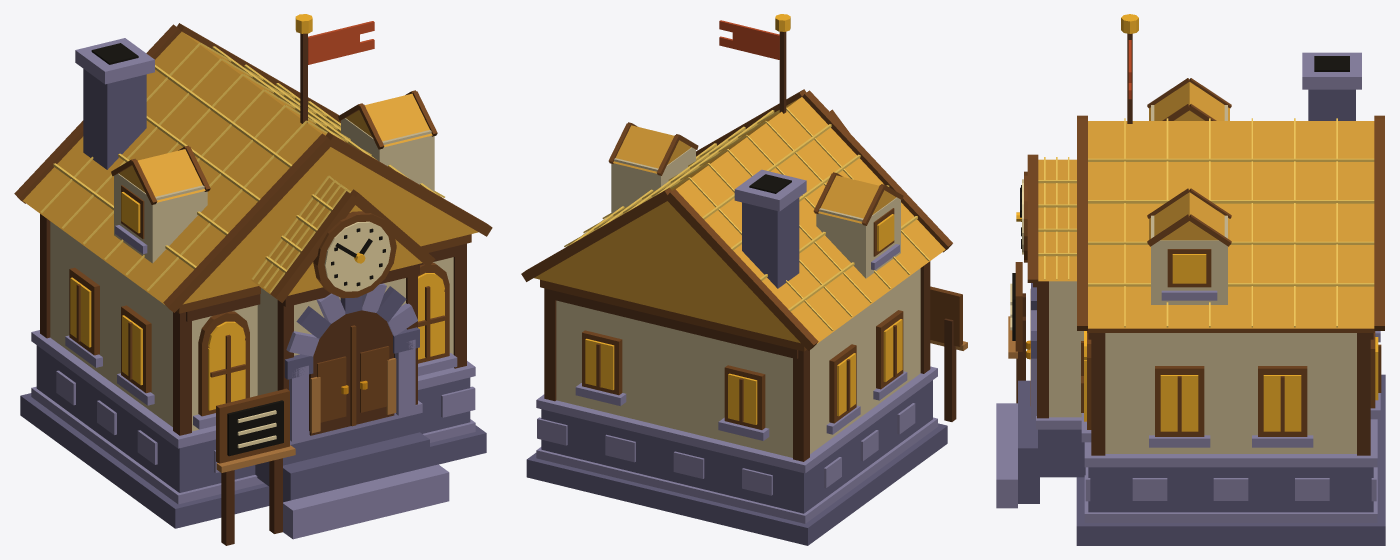
Rendered from school.glb.
3 views of the same model, side by side, from view 1: azimuth 30°, elevation 25°; view 2: azimuth 150°, elevation 25°; view 3: azimuth 270°, elevation 25° (orthographic). The views are drawn at different scales.
Visible parts, largest first — view 1: Roof.002, Arch voussoir.004, Bargeboard, Clock bay cap, Dormer body, Corner post.001, Tile seam.012, Pole finial, Chalk line.001, Clock tick, Door band.001, Pennant; view 2: Roof.002, Dormer body, Arch voussoir.004, Bargeboard, Clock bay cap, Corner post.001, Pole finial, Tile seam.012, Pennant; view 3: Roof.002, Dormer body, Arch voussoir.004, Clock bay cap, Bargeboard, Tile seam.012, Corner post.001, Pole finial, Clock tick.
Part boxes in pixels (x1,y1,x2,y2): Roof.002: (23,31,478,304); Arch voussoir.004: (20,69,486,528); Bargeboard: (14,23,492,463); Clock bay cap: (31,38,475,539); Dormer body: (50,118,453,431); Corner post.001: (40,33,466,545); Tile seam.012: (40,42,444,292); Pole finial: (70,14,444,410); Chalk line.001: (237,221,390,448); Clock tick: (91,43,394,456); Door band.001: (216,358,396,472); Pennant: (308,21,374,64); Roof.002: (534,97,945,343); Dormer body: (556,147,920,457); Arch voussoir.004: (526,197,947,545); Bargeboard: (521,89,962,429); Clock bay cap: (536,169,937,523); Corner post.001: (544,31,956,461); Pole finial: (585,14,902,424); Tile seam.012: (564,107,929,330); Pennant: (719,20,779,59); Roof.002: (1038,82,1374,328); Dormer body: (1049,105,1356,453); Arch voussoir.004: (1018,89,1385,545); Clock bay cap: (996,52,1380,522); Bargeboard: (1015,78,1384,436); Tile seam.012: (1038,118,1374,327); Corner post.001: (1016,33,1373,455); Pole finial: (1016,14,1378,431); Clock tick: (1012,56,1349,340).
Bounding box in the file's own units: 3.77 × 5.04 × 3.93.
